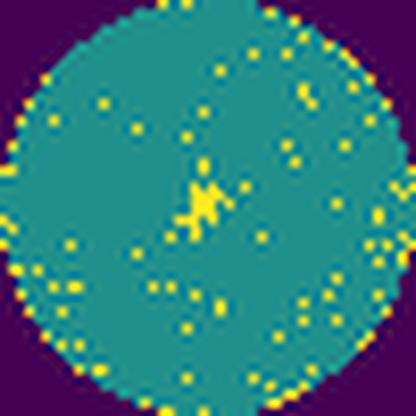Center: (176, 181, 232, 241)
